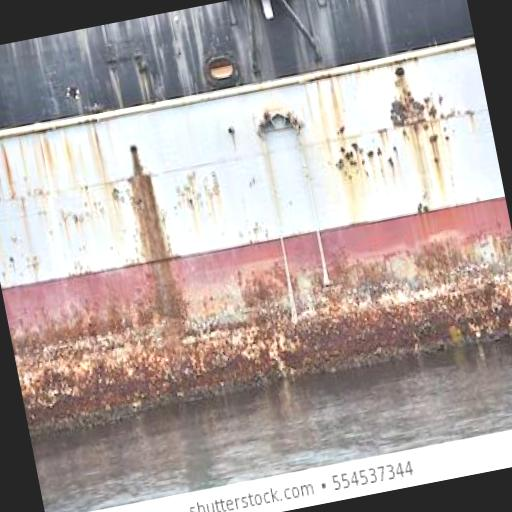segmentation: (119, 144, 169, 267), (383, 64, 423, 118), (150, 268, 182, 316)
